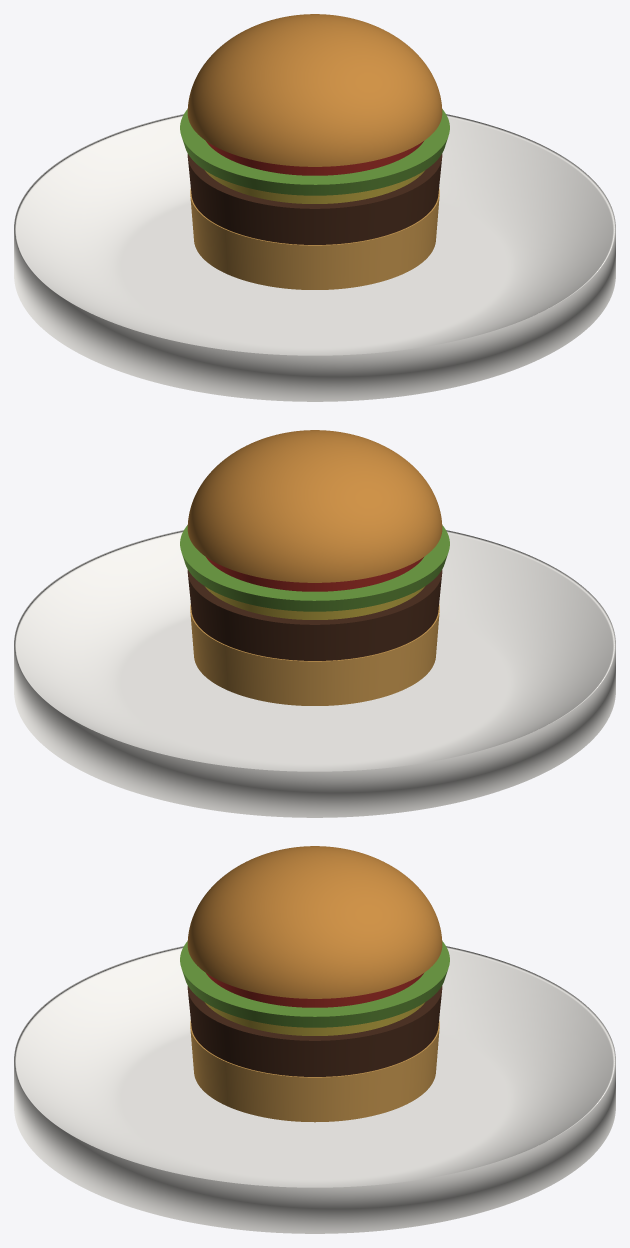
File: burger-cogumelo-hero.glb
The picture shows the model from 3 angles, top to bottom: view 1: azimuth 30°, elevation 25°; view 2: azimuth 150°, elevation 25°; view 3: azimuth 270°, elevation 25°; orthographic projection.
Bounding box in the file's own units: 0.26 × 0.1166 × 0.26.
